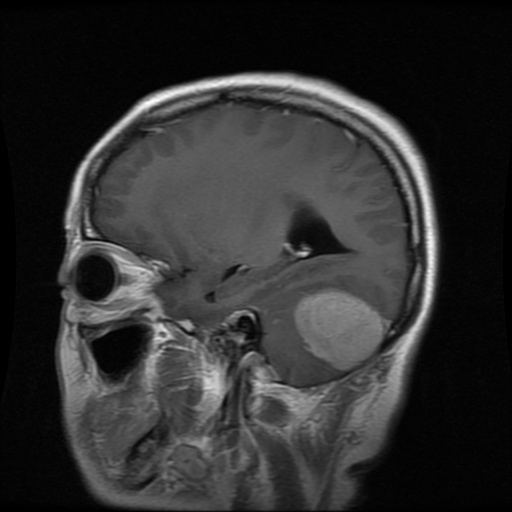meningioma: (292, 286, 388, 370)
